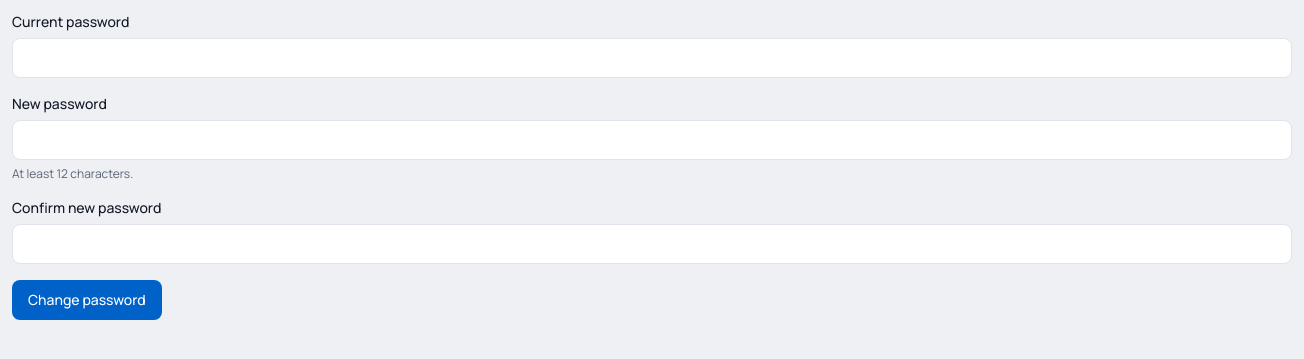
Test: PasswordForm › puts the API's rule beside the new password
Type "correct horse" into the password field labelled "Current password" at (652, 58), box [12,38,1292,78]
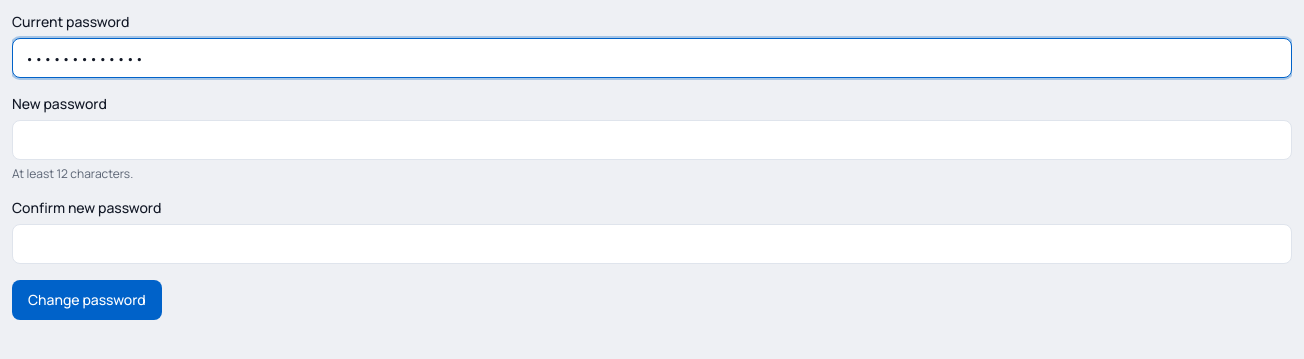
Type "short" into the password field labelled "New password" at (652, 140), box [12,120,1292,160]
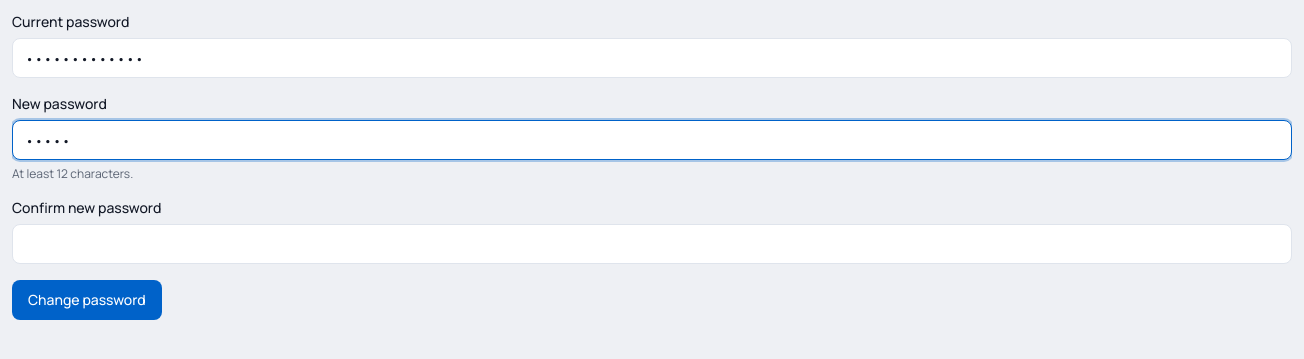
Type "short" into the password field labelled "Confirm new password" at (652, 244), box [12,224,1292,264]
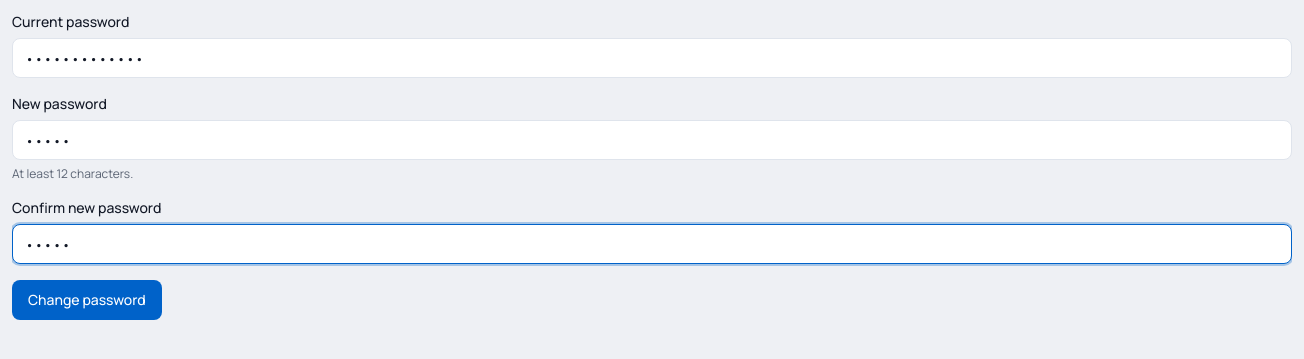
Click the button "Change password" at (87, 300), box [12,280,162,320]
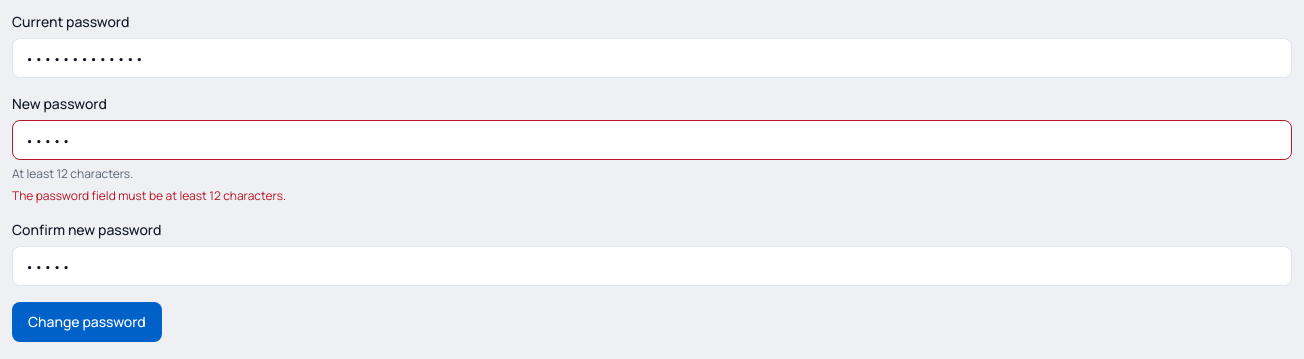
Expected: the list item "The password field must be at least 12 characters." is shown, [12,187,286,204]
